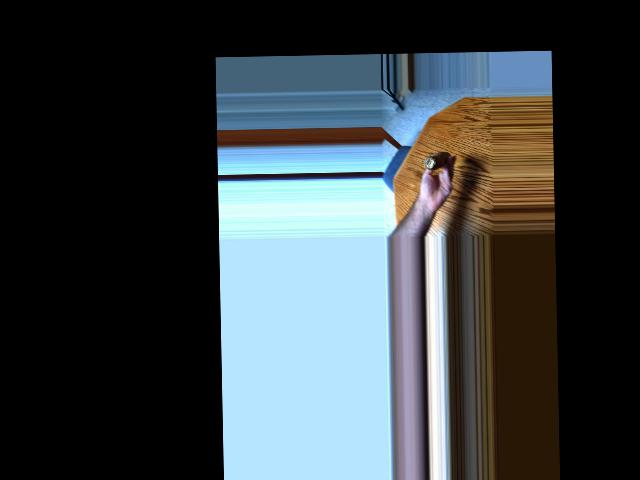sweet_potato: (420, 150, 451, 175)
